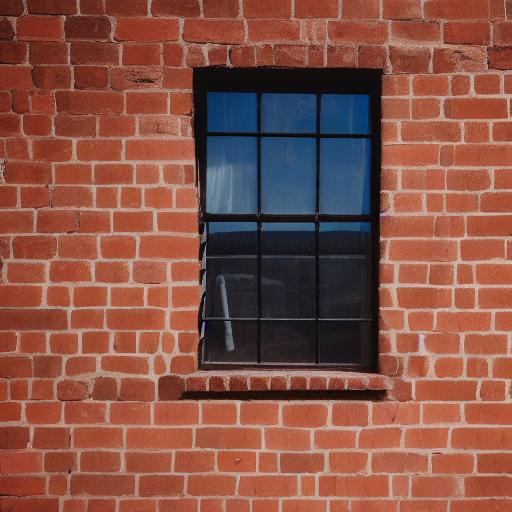Window: (186, 65, 388, 395)
